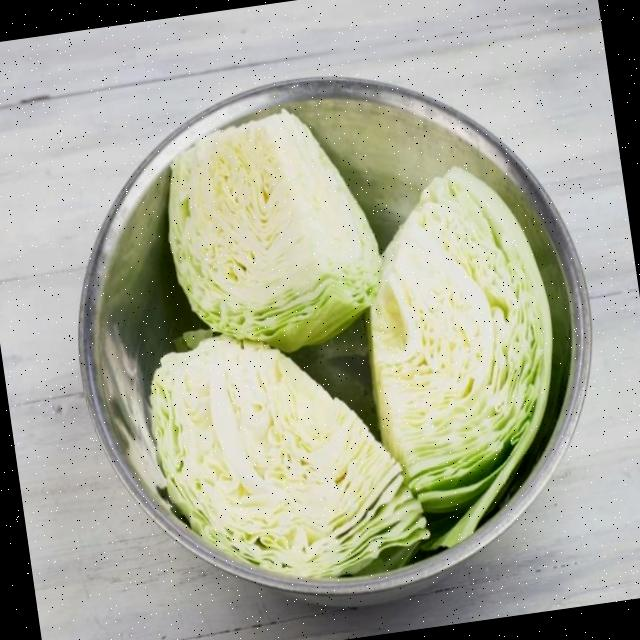cabbage: (337, 150, 582, 558), (138, 298, 442, 616), (154, 96, 396, 370)
